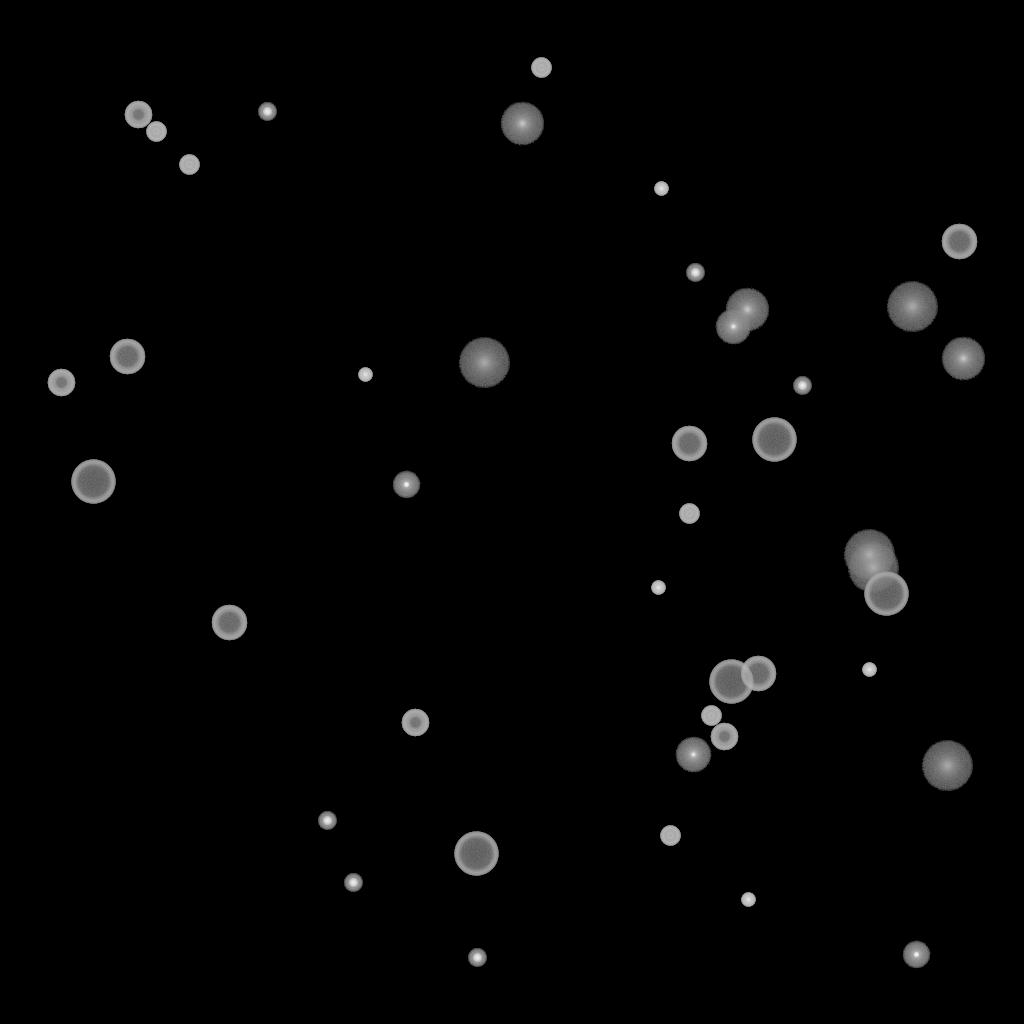depth:-10: (392, 471, 420, 499), (902, 941, 930, 969)
depth:-20: (344, 874, 362, 892), (686, 264, 704, 282), (258, 103, 276, 121), (468, 949, 486, 967), (318, 812, 336, 830), (793, 377, 811, 395)
depth:-30: (651, 581, 665, 595), (862, 663, 876, 677), (654, 182, 668, 196), (741, 893, 755, 907), (358, 368, 372, 382)
depth:-40: (679, 504, 699, 524), (701, 706, 721, 726), (146, 122, 166, 142), (179, 155, 199, 175), (531, 58, 551, 78), (660, 826, 680, 846)
depth:-50: (47, 369, 75, 397), (401, 709, 429, 737), (124, 101, 152, 129), (710, 723, 738, 751)
depth:-60: (671, 426, 707, 462), (941, 224, 977, 260), (740, 656, 776, 692), (109, 339, 145, 375), (211, 605, 247, 641)
depth:-70: (752, 418, 796, 462), (709, 660, 753, 704), (864, 572, 908, 616), (454, 832, 498, 876), (71, 460, 115, 504)
depth:0: (675, 737, 711, 773), (715, 309, 751, 345)
depth:10: (941, 337, 985, 381), (500, 102, 544, 146), (725, 288, 769, 332)
depth:20: (843, 530, 895, 580), (458, 338, 510, 388), (921, 741, 973, 791), (886, 282, 938, 332), (847, 543, 899, 593)
